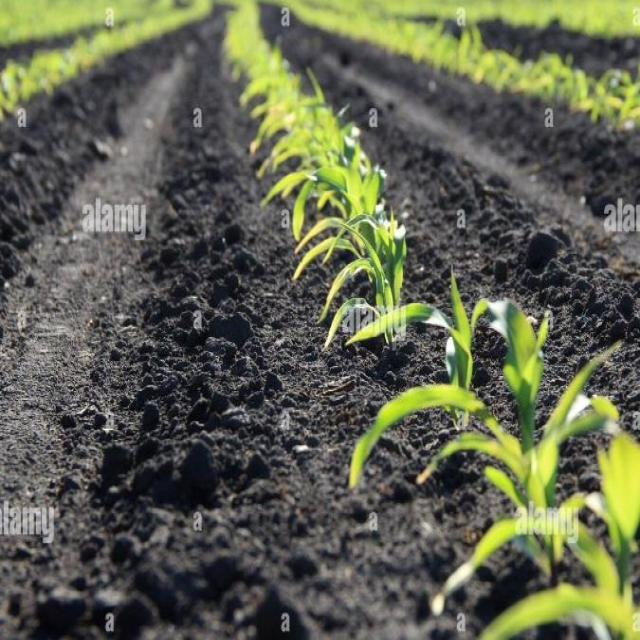row: (2, 5, 526, 640), (264, 0, 640, 447)
